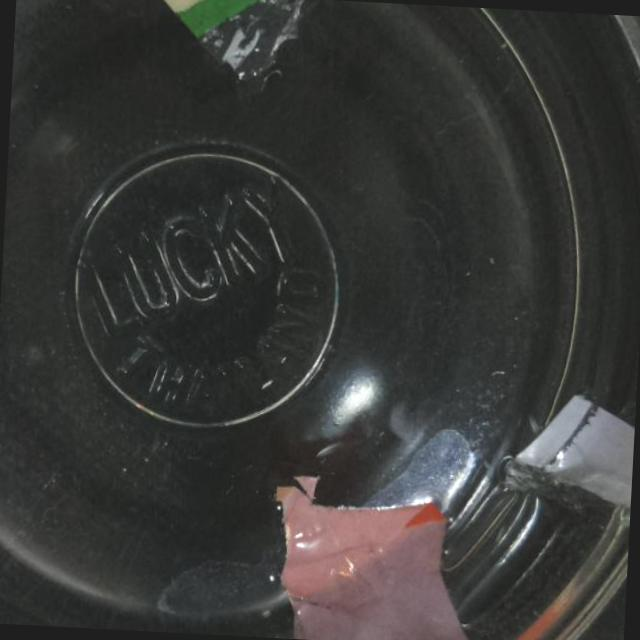fiber: (265, 472, 482, 640), (499, 386, 636, 529), (153, 0, 307, 99)
